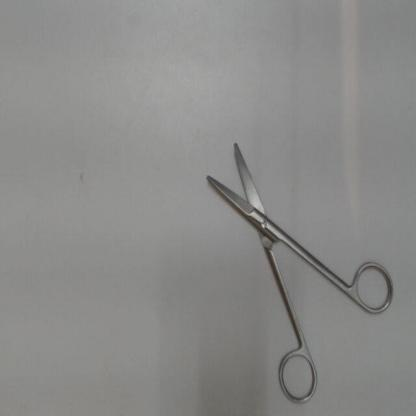Curved Mayo Scissors: (199, 130, 399, 410)
